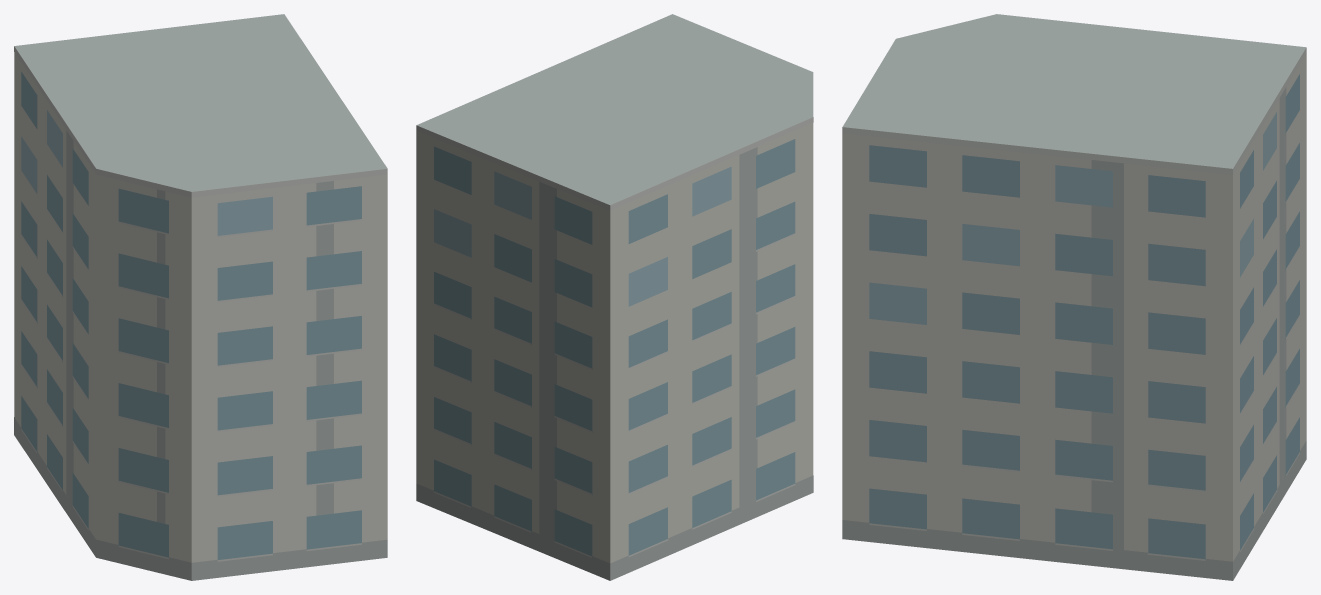
File: survey-upis-32874438.glb
3 renders of one model, left to right at view 1: azimuth 30°, elevation 25°; view 2: azimuth 150°, elevation 25°; view 3: azimuth 270°, elevation 25°, orthographic. The views are drawn at different scales.
Parts seen in each view (by area): view 1: survey-upis-32874438.tmp; view 2: survey-upis-32874438.tmp; view 3: survey-upis-32874438.tmp.
Boxes of the visible parts, box(x1,y1,x2,y2) form: survey-upis-32874438.tmp: box(14, 14, 387, 580); survey-upis-32874438.tmp: box(416, 14, 813, 580); survey-upis-32874438.tmp: box(842, 14, 1306, 580).
Size of the model in its own units: 13.19 by 16.35 by 16.7.
